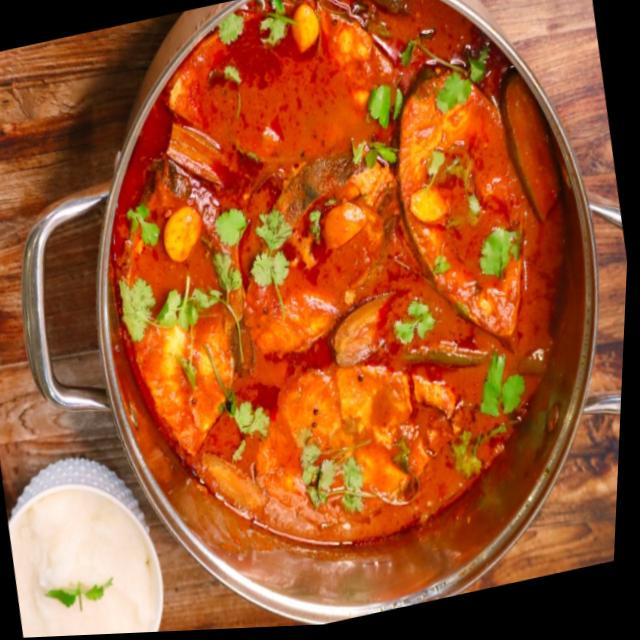FISH CURRY: (111, 0, 563, 541)
RICE: (8, 485, 162, 638)
